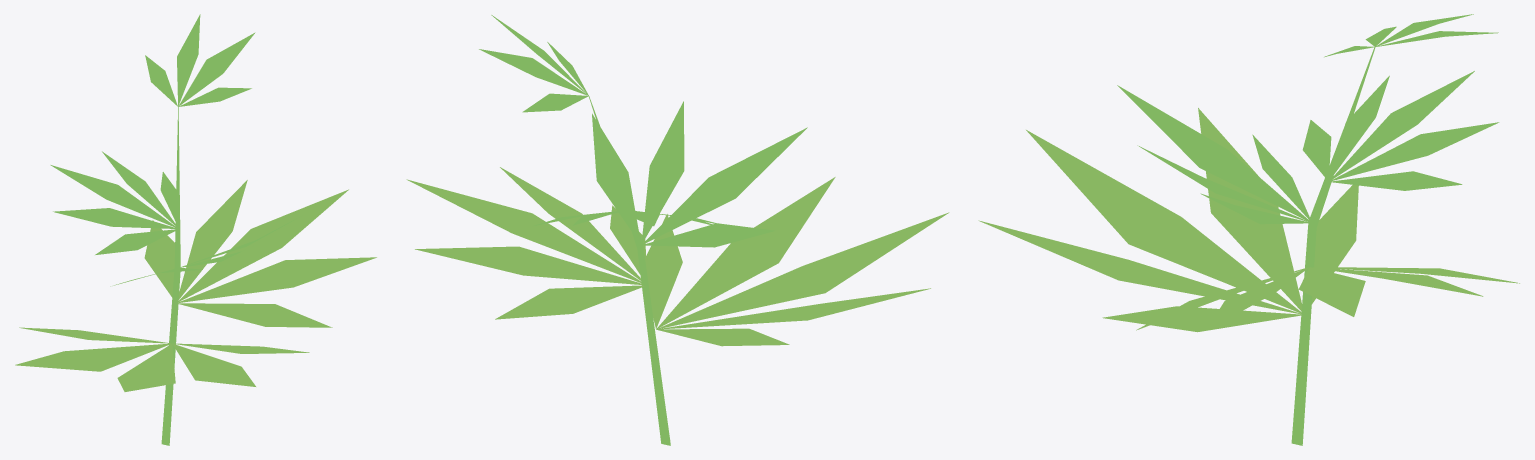
Rendered from Plant_i_TwoS_03.fbx.
3 views of the same model, side by side, from view 1: azimuth 30°, elevation 25°; view 2: azimuth 150°, elevation 25°; view 3: azimuth 270°, elevation 25° (orthographic). The views are drawn at different scales.
Parts seen in each view (by area): view 1: Plant_i_TwoS_03; view 2: Plant_i_TwoS_03; view 3: Plant_i_TwoS_03.
Part boxes in pixels (left/top/right/bottom): Plant_i_TwoS_03: left=15, top=14, right=376, bottom=445; Plant_i_TwoS_03: left=406, top=15, right=949, bottom=445; Plant_i_TwoS_03: left=978, top=14, right=1519, bottom=445.
Size of the model in its own units: 0.6548 by 0.5745 by 0.5711.
